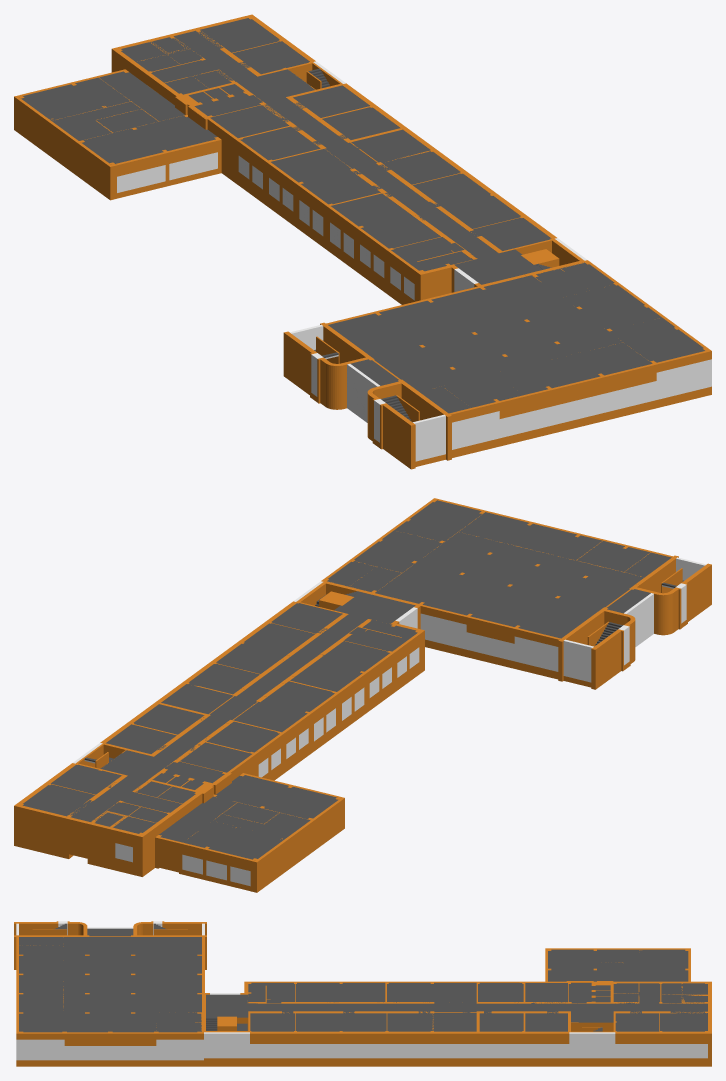
3 renders of one model, top to bottom at view 1: azimuth 30°, elevation 25°; view 2: azimuth 150°, elevation 25°; view 3: azimuth 270°, elevation 25°, orthographic. The views are drawn at different scales.
Visible parts, largest first — view 1: 1.947, 1.943, 1.958, 1.318, 1.411, 1.946, 1.571, 1.320, 1.413, 1.250, 1.301, 1.410 (+13 smaller); view 2: 1.947, 1.943, 1.958, 1.318, 1.374, 1.413, 1.946, 1.572, 1.404, 1.405, 1.411, 1.644 (+8 smaller); view 3: 1.947, 1.943, 1.958, 1.430, 1.529, 1.526, 1.249, 1.946, 1.375, 1.528, 1.527, 1.531 (+44 smaller).
Boxes of the visible parts, x1=… form: 1.947: x1=121, y1=18, x2=550, y2=271; 1.943: x1=328, y1=262, x2=704, y2=413; 1.958: x1=21, y1=71, x2=217, y2=163; 1.318: x1=14, y1=95, x2=116, y2=200; 1.411: x1=380, y1=403, x2=415, y2=469; 1.946: x1=454, y1=249, x2=542, y2=284; 1.571: x1=317, y1=354, x2=374, y2=409; 1.320: x1=656, y1=360, x2=708, y2=399; 1.413: x1=283, y1=331, x2=316, y2=397; 1.250: x1=452, y1=411, x2=499, y2=449; 1.301: x1=188, y1=106, x2=241, y2=185; 1.410: x1=413, y1=414, x2=445, y2=461; 1.947: x1=23, y1=603, x2=417, y2=833; 1.943: x1=327, y1=500, x2=671, y2=638; 1.958: x1=159, y1=775, x2=338, y2=859; 1.318: x1=250, y1=796, x2=344, y2=892; 1.374: x1=14, y1=804, x2=71, y2=858; 1.413: x1=591, y1=629, x2=623, y2=689; 1.946: x1=334, y1=591, x2=415, y2=623; 1.572: x1=629, y1=584, x2=681, y2=635; 1.404: x1=87, y1=822, x2=117, y2=870; 1.405: x1=133, y1=813, x2=174, y2=876; 1.411: x1=681, y1=563, x2=711, y2=624; 1.644: x1=420, y1=613, x2=466, y2=649; 1.947: x1=248, y1=983, x2=707, y2=1031; 1.943: x1=19, y1=936, x2=201, y2=1032; 1.958: x1=548, y1=949, x2=688, y2=981; 1.430: x1=569, y1=1032, x2=615, y2=1058; 1.529: x1=204, y1=1032, x2=249, y2=1058; 1.526: x1=16, y1=1039, x2=64, y2=1060; 1.249: x1=156, y1=1039, x2=203, y2=1060; 1.946: x1=206, y1=994, x2=248, y2=1017; 1.375: x1=661, y1=1044, x2=707, y2=1058; 1.528: x1=110, y1=1046, x2=156, y2=1060; 1.527: x1=64, y1=1046, x2=110, y2=1060; 1.531: x1=295, y1=1044, x2=341, y2=1058.
Bounding box in the file's own units: 34.86 × 91.62 × 4.81.
